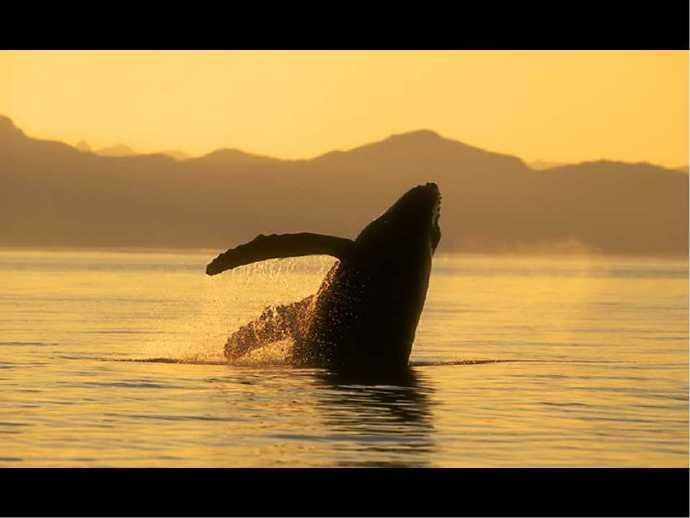fish: (205, 179, 450, 375)
